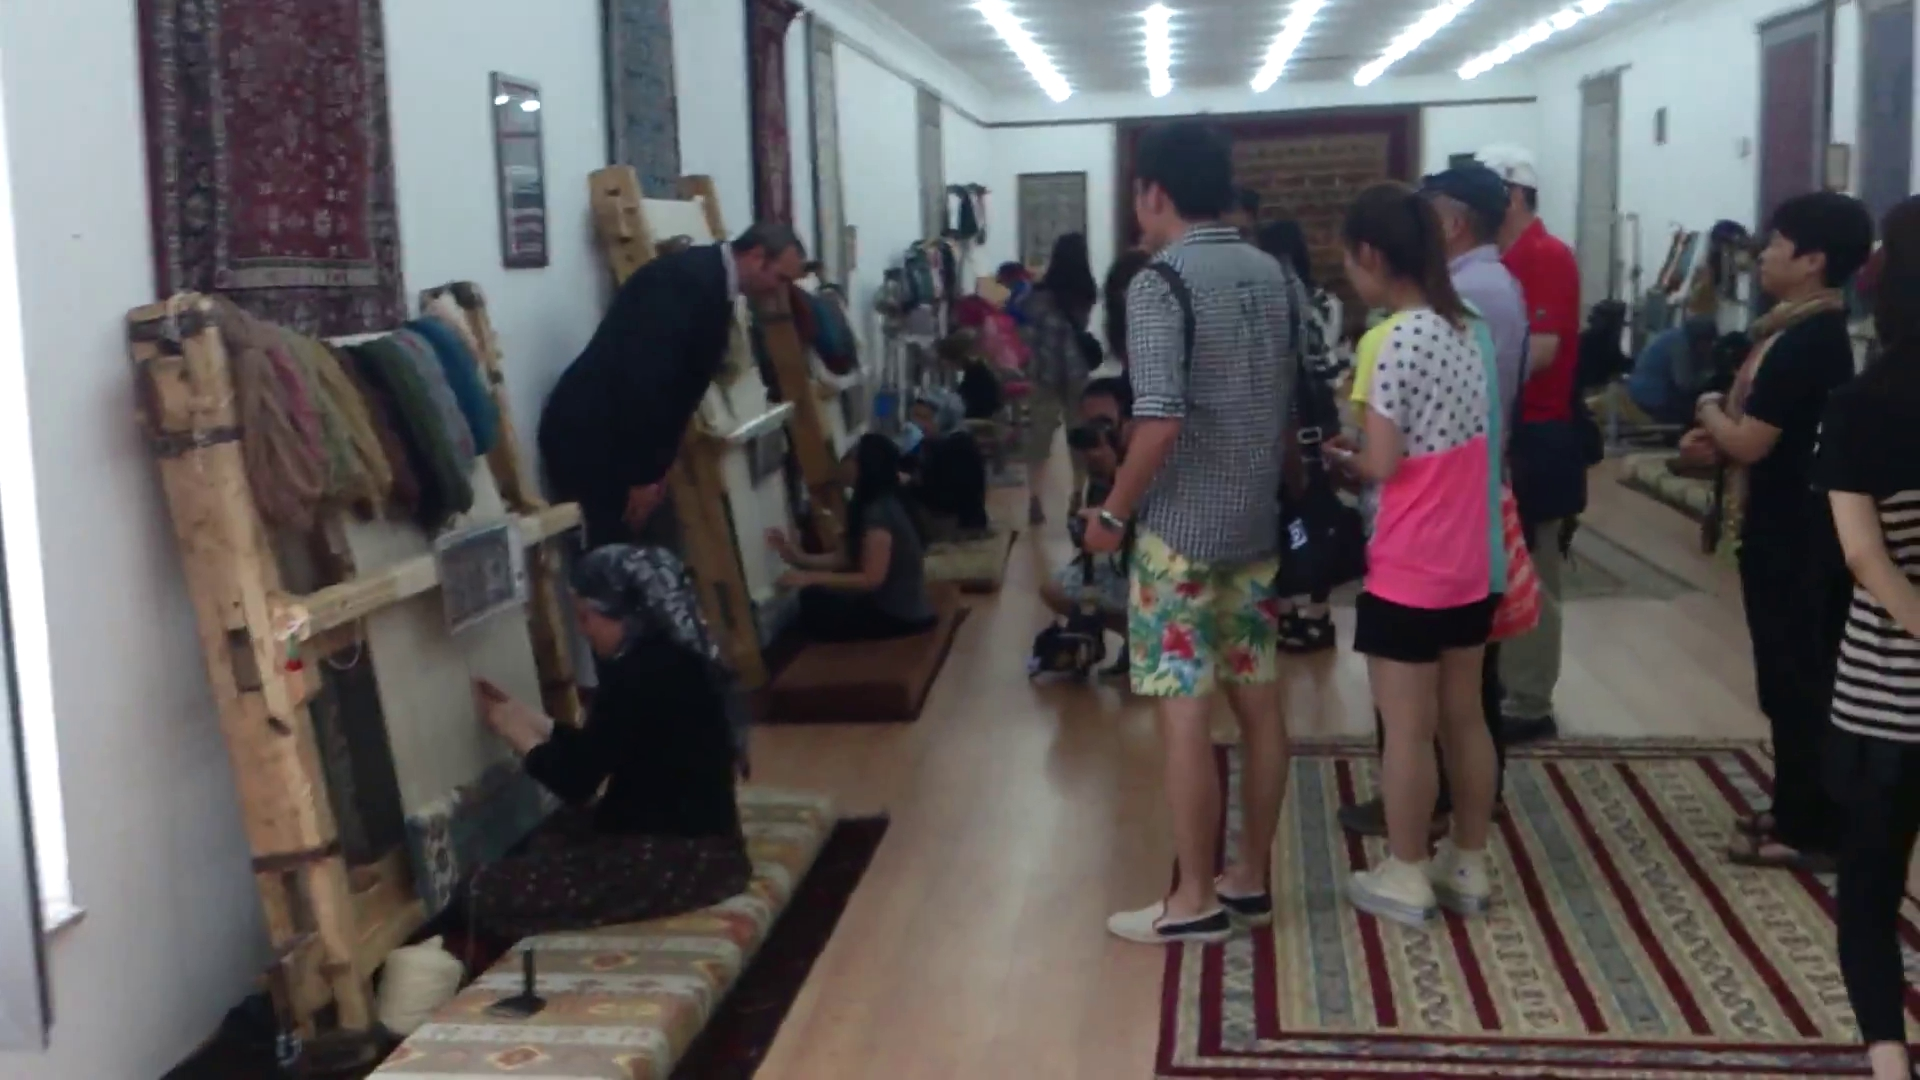person: (1076, 121, 1307, 945), (443, 540, 757, 977), (1678, 192, 1873, 871), (1338, 185, 1498, 925), (541, 220, 809, 544), (1472, 144, 1581, 745), (1414, 169, 1529, 487), (781, 432, 926, 640), (901, 387, 989, 539)
